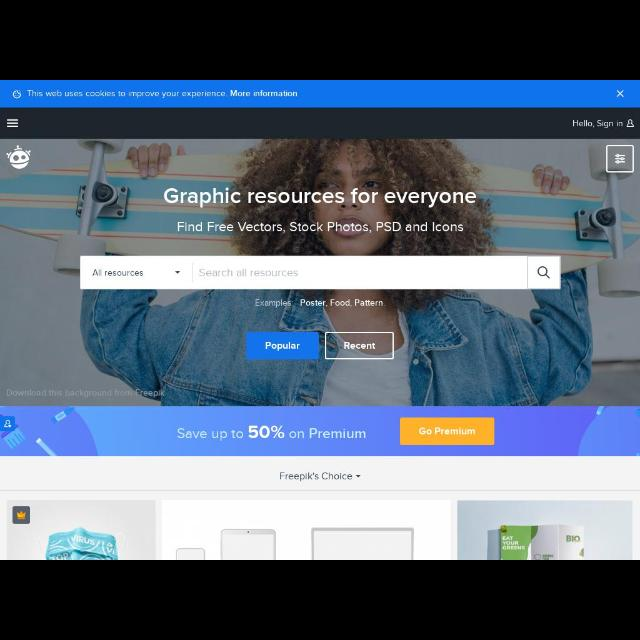backgroundimage: (1, 139, 639, 405)
button: (163, 502, 451, 560), (526, 257, 560, 289), (608, 145, 632, 173)
icon: (536, 264, 550, 282), (613, 154, 625, 164), (7, 118, 19, 128), (16, 511, 26, 519), (616, 90, 624, 98), (626, 120, 634, 128), (12, 90, 22, 96), (175, 270, 181, 276), (355, 474, 361, 478)
iframe: (1, 406, 639, 454)
image: (459, 500, 631, 560), (7, 502, 153, 560), (4, 145, 32, 169)
input: (192, 256, 526, 288)
spinner: (1, 456, 639, 489), (80, 258, 192, 288)
text: (164, 188, 476, 208), (176, 220, 467, 233), (28, 88, 298, 100), (5, 388, 164, 398), (198, 268, 300, 278), (277, 471, 351, 483), (92, 268, 144, 278), (572, 119, 622, 129), (301, 300, 384, 306), (342, 340, 378, 352), (255, 298, 292, 308), (264, 342, 302, 350)
textbutton: (247, 332, 319, 360), (326, 332, 394, 358)
toolbar: (1, 106, 639, 138)
